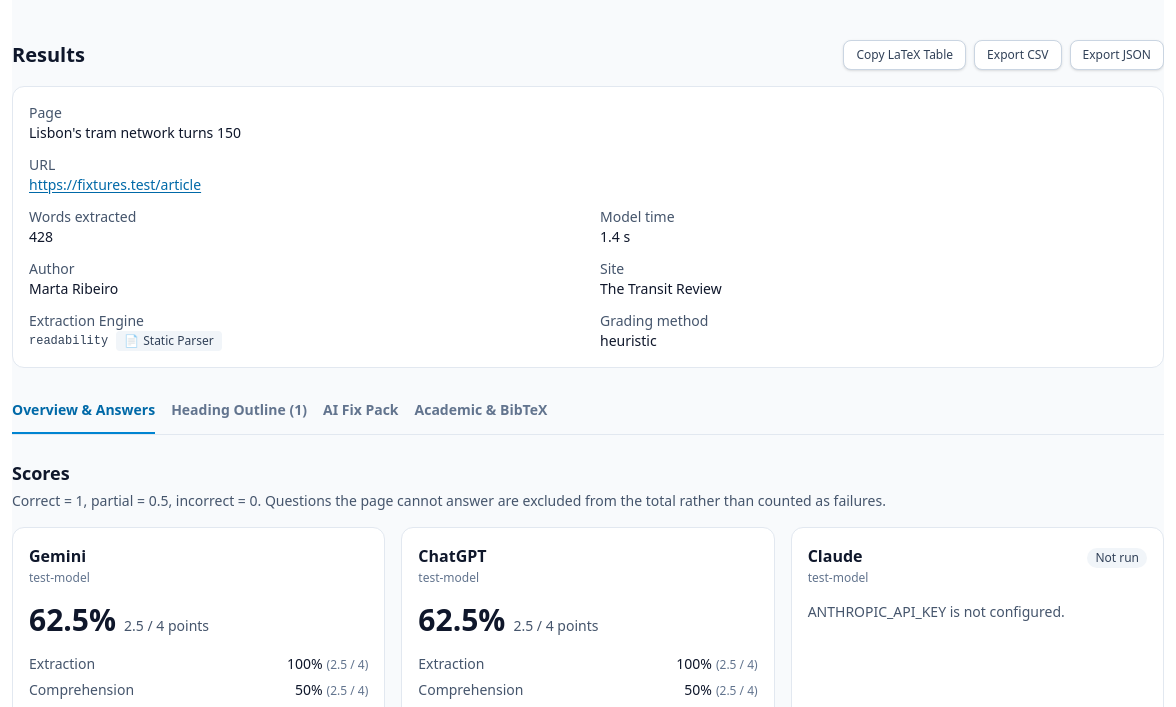
Test: the comparison table › supports copying academic LaTeX table
This screenshot has width=1176, height=707.
Click the button "Copy LaTeX Table". click: (905, 55)
box: [843,40,966,70]
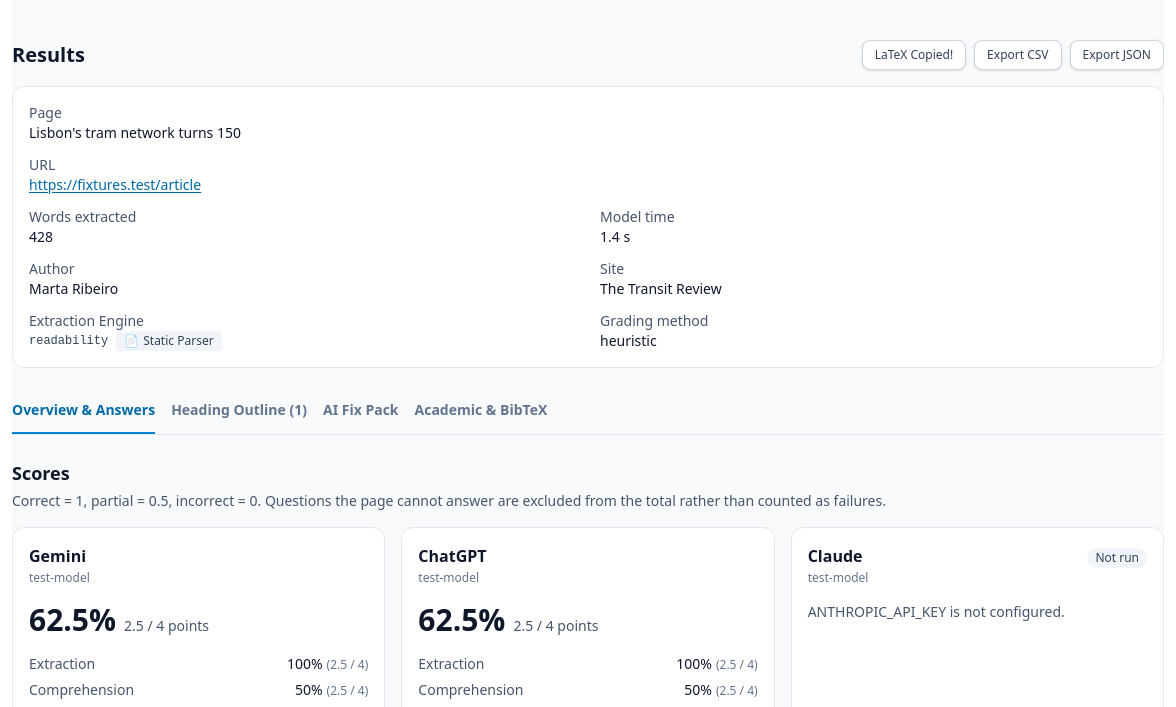
Check: the button "LaTeX Copied!" is shown, box [862,40,966,70]
